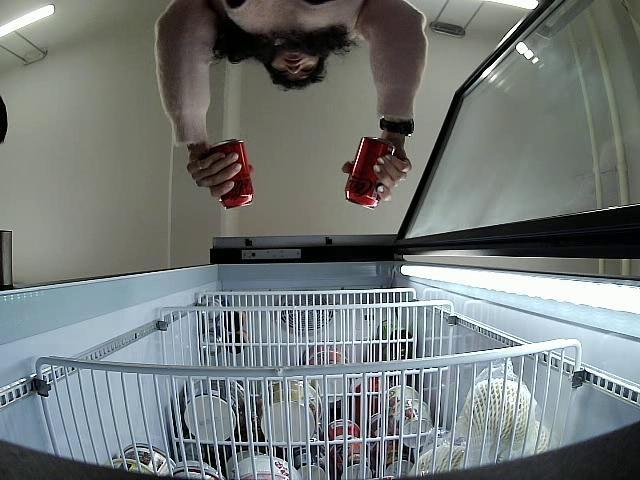11_cocaColaZero: (342, 136, 397, 208), (210, 138, 254, 212)
